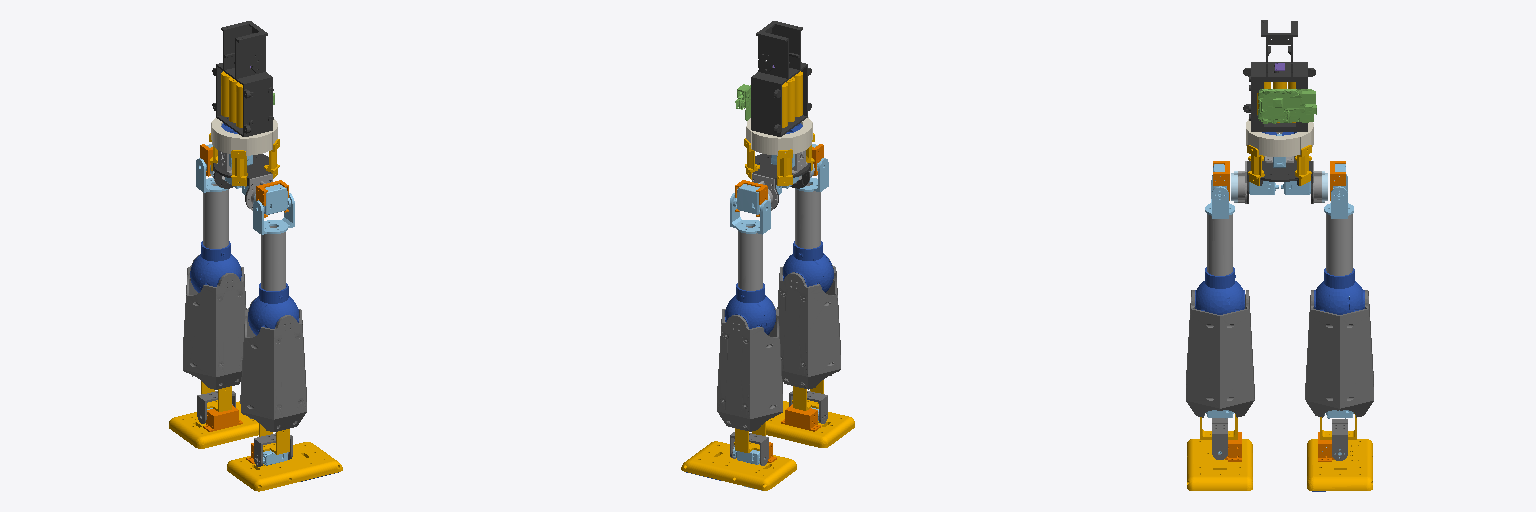
--- Facts derived from the render (not from the file) ---
Views: 3 orthographic renders of the robot side by side, from view 1: azimuth 30°, elevation 25°; view 2: azimuth 150°, elevation 25°; view 3: azimuth 270°, elevation 25°.
Model WildRobotDev with 22 links and 21 joints (11 revolute, 10 fixed), rooted at waist, posed all joints at 0.
Links seen in each view (by area): view 1: lower_leg, lower_leg_2, chassis, waist, upper_leg, upper_leg_2, right_foot, left_foot, right_ankle, left_ankle, right_hip; view 2: lower_leg_2, lower_leg, chassis, waist, upper_leg_2, upper_leg, left_foot, right_foot, left_ankle, right_ankle, left_hip; view 3: lower_leg, lower_leg_2, chassis, waist, upper_leg_2, upper_leg, right_foot, left_foot, right_ankle, left_ankle.
Link boxes in pixels (left/top/right/bottom): lower_leg: left=240, top=298, right=306, bottom=431; lower_leg_2: left=183, top=255, right=246, bottom=389; chassis: left=212, top=21, right=274, bottom=136; waist: left=209, top=118, right=279, bottom=210; upper_leg: left=248, top=193, right=298, bottom=335; upper_leg_2: left=190, top=158, right=241, bottom=292; right_foot: left=227, top=442, right=342, bottom=491; left_foot: left=169, top=401, right=258, bottom=448; right_ankle: left=254, top=423, right=292, bottom=466; left_ankle: left=197, top=381, right=235, bottom=423; right_hip: left=256, top=180, right=290, bottom=217; lower_leg_2: left=717, top=302, right=782, bottom=431; lower_leg: left=777, top=259, right=840, bottom=389; chassis: left=735, top=21, right=811, bottom=136; waist: left=744, top=117, right=814, bottom=210; upper_leg_2: left=725, top=193, right=775, bottom=334; upper_leg: left=783, top=158, right=833, bottom=292; left_foot: left=681, top=441, right=796, bottom=490; right_foot: left=766, top=401, right=854, bottom=447; left_ankle: left=730, top=422, right=768, bottom=465; right_ankle: left=789, top=380, right=827, bottom=423; left_hip: left=733, top=180, right=767, bottom=216; lower_leg: left=1186, top=290, right=1254, bottom=418; lower_leg_2: left=1305, top=290, right=1373, bottom=418; chassis: left=1243, top=20, right=1316, bottom=135; waist: left=1231, top=119, right=1327, bottom=203; upper_leg_2: left=1314, top=174, right=1364, bottom=314; upper_leg: left=1195, top=175, right=1244, bottom=314; right_foot: left=1187, top=432, right=1252, bottom=490; left_foot: left=1307, top=432, right=1372, bottom=491; right_ankle: left=1200, top=414, right=1237, bottom=459; left_ankle: left=1320, top=413, right=1356, bottom=460.
Bounding box of the posed robot: 0.1604 × 0.2851 × 0.7304 m (x, y, z).
Meshes: 32 distinct files referenced, 65 mesh visuals loaded (32 binary STL).

The robot description file, URDF, robot "WildRobotDev":
<?xml version="1.0" ?>
<!-- Generated using onshape-to-robot -->
<!-- Onshape https://cad.onshape.com/documents/ba106cac193c0e2253e1958f/w/3b5db3932a544d9f939ac6a6/e/c90fb7b3175cb93a0ac0750b -->
<robot name="WildRobotDev">
  <!-- Link waist -->
  <link name="waist">
    <inertial>
      <origin xyz="-0.00181517 -3.08835e-05 0.00596571" rpy="0 0 0"/>
      <mass value="0.439621"/>
      <inertia ixx="0.000998265" ixy="-7.22885e-08" ixz="1.38528e-05" iyy="0.000698685" iyz="5.24148e-07" izz="0.00070313"/>
    </inertial>
    <!-- Part htd_45h_1circle -->
    <visual>
      <origin xyz="-0.0596393 -0.00143119 -0.0273687" rpy="1.57113 -4.93038e-32 6.12323e-17"/>
      <geometry>
        <mesh filename="package://assets/htd_45h_1circle.stl"/>
      </geometry>
      <material name="htd_45h_1circle_material">
        <color rgba="0.615686 0.811765 0.929412 1"/>
      </material>
    </visual>
    <!-- Part waist_trunk_support -->
    <visual>
      <origin xyz="0.000128558 -0.000153209 0.12518" rpy="-9.86076e-32 -0 -2.44346"/>
      <geometry>
        <mesh filename="package://assets/waist_trunk_support.stl"/>
      </geometry>
      <material name="waist_trunk_support_material">
        <color rgba="0.980392 0.713725 0.00392157 1"/>
      </material>
    </visual>
    <!-- Part trunk_bottom -->
    <visual>
      <origin xyz="-1.8982e-19 0 0" rpy="0 -0 -1.5708"/>
      <geometry>
        <mesh filename="package://assets/trunk_bottom.stl"/>
      </geometry>
      <material name="trunk_bottom_material">
        <color rgba="0.301961 0.301961 0.301961 1"/>
      </material>
    </visual>
    <!-- Part htd_45h_1circle_2 -->
    <visual>
      <origin xyz="-0.00619509 -0.059645 -0.00396881" rpy="0.000328717 -0 1.5708"/>
      <geometry>
        <mesh filename="package://assets/htd_45h_1circle.stl"/>
      </geometry>
      <material name="htd_45h_1circle_2_material">
        <color rgba="0.615686 0.811765 0.929412 1"/>
      </material>
    </visual>
    <!-- Part trunk_servo_connect -->
    <visual>
      <origin xyz="5.89806e-17 -3.1225e-17 0" rpy="0 -0 -1.5708"/>
      <geometry>
        <mesh filename="package://assets/trunk_servo_connect.stl"/>
      </geometry>
      <material name="trunk_servo_connect_material">
        <color rgba="0.647059 0.647059 0.647059 1"/>
      </material>
    </visual>
    <!-- Part hip_cover -->
    <visual>
      <origin xyz="1.38778e-17 -0.00025 1.47949e-17" rpy="-9.86076e-32 9.86076e-32 1.5708"/>
      <geometry>
        <mesh filename="package://assets/hip_cover.stl"/>
      </geometry>
      <material name="hip_cover_material">
        <color rgba="0.768627 0.886275 0.952941 1"/>
      </material>
    </visual>
    <!-- Part scroll_out -->
    <visual>
      <origin xyz="-1.59595e-16 -1.66533e-16 0.12518" rpy="-1.93746e-16 4.93038e-32 -2.44346"/>
      <geometry>
        <mesh filename="package://assets/scroll_out.stl"/>
      </geometry>
      <material name="scroll_out_material">
        <color rgba="0.901961 0.878431 0.811765 1"/>
      </material>
    </visual>
    <!-- Part waist_trunk_support_2 -->
    <visual>
      <origin xyz="0.000128558 0.000153209 0.12518" rpy="7.39557e-32 9.86076e-32 -0.698132"/>
      <geometry>
        <mesh filename="package://assets/waist_trunk_support.stl"/>
      </geometry>
      <material name="waist_trunk_support_2_material">
        <color rgba="0.980392 0.713725 0.00392157 1"/>
      </material>
    </visual>
    <!-- Part hip_trunk_connect -->
    <visual>
      <origin xyz="1.38778e-17 -0.0001 1.53661e-17" rpy="-4.93038e-32 6.16298e-33 1.5708"/>
      <geometry>
        <mesh filename="package://assets/hip_trunk_connect.stl"/>
      </geometry>
      <material name="hip_trunk_connect_material">
        <color rgba="0.647059 0.647059 0.647059 1"/>
      </material>
    </visual>
    <!-- Part waist_trunk_support_3 -->
    <visual>
      <origin xyz="-0.000128558 -0.000153209 0.12518" rpy="-9.86076e-32 -0 2.44346"/>
      <geometry>
        <mesh filename="package://assets/waist_trunk_support.stl"/>
      </geometry>
      <material name="waist_trunk_support_3_material">
        <color rgba="0.980392 0.713725 0.00392157 1"/>
      </material>
    </visual>
    <!-- Part scroll_inner -->
    <!-- Part pca9548a -->
    <!-- Part waist_trunk_support_4 -->
    <visual>
      <origin xyz="-0.000128558 0.000153209 0.12518" rpy="-2.46519e-32 -1.47911e-31 0.698132"/>
      <geometry>
        <mesh filename="package://assets/waist_trunk_support.stl"/>
      </geometry>
      <material name="waist_trunk_support_4_material">
        <color rgba="0.980392 0.713725 0.00392157 1"/>
      </material>
    </visual>
    <!-- Part hip_cover_2 -->
    <visual>
      <origin xyz="-1.38778e-17 0.00025 1.46954e-17" rpy="9.86076e-32 -1.49452e-31 -1.5708"/>
      <geometry>
        <mesh filename="package://assets/hip_cover.stl"/>
      </geometry>
      <material name="hip_cover_2_material">
        <color rgba="0.768627 0.886275 0.952941 1"/>
      </material>
    </visual>
    <!-- Part htd_45h_1circle_3 -->
    <visual>
      <origin xyz="0.0596393 0.00143119 -0.0273687" rpy="1.57113 4.93038e-32 -3.14159"/>
      <geometry>
        <mesh filename="package://assets/htd_45h_1circle.stl"/>
      </geometry>
      <material name="htd_45h_1circle_3_material">
        <color rgba="0.615686 0.811765 0.929412 1"/>
      </material>
    </visual>
    <!-- Part hip_trunk_connect_2 -->
    <visual>
      <origin xyz="-1.38778e-17 0.0001 1.3452e-17" rpy="4.93038e-32 -3.08149e-32 -1.5708"/>
      <geometry>
        <mesh filename="package://assets/hip_trunk_connect.stl"/>
      </geometry>
      <material name="hip_trunk_connect_2_material">
        <color rgba="0.647059 0.647059 0.647059 1"/>
      </material>
    </visual>
  </link>
  <!-- Frame pelvis_mimic (dummy link + fixed joint) -->
  <link name="pelvis_mimic">
    <origin xyz="0 0 0" rpy="0 -0 0"/>
    <inertial>
      <origin xyz="0 0 0" rpy="0 0 0"/>
      <mass value="1e-9"/>
      <inertia ixx="0" ixy="0" ixz="0" iyy="0" iyz="0" izz="0"/>
    </inertial>
  </link>
  <joint name="pelvis_mimic_frame" type="fixed">
    <origin xyz="0 0 0" rpy="0 -0 0"/>
    <parent link="waist"/>
    <child link="pelvis_mimic"/>
    <axis xyz="0 0 0"/>
  </joint>
  <!-- Link right_hip -->
  <link name="right_hip">
    <inertial>
      <origin xyz="0.00272374 -0.00897832 -0.0331404" rpy="0 0 0"/>
      <mass value="0.0849728"/>
      <inertia ixx="2.00434e-05" ixy="-3.96751e-07" ixz="7.91944e-07" iyy="1.92798e-05" iyz="-1.48675e-06" izz="2.44237e-05"/>
    </inertial>
    <!-- Part htd_45h_1circle_4 -->
    <visual>
      <origin xyz="-0.0254688 -0.0063813 -0.0961393" rpy="-3.14126 -1.5708 0"/>
      <geometry>
        <mesh filename="package://assets/htd_45h_1circle.stl"/>
      </geometry>
      <material name="htd_45h_1circle_4_material">
        <color rgba="0.615686 0.811765 0.929412 1"/>
      </material>
    </visual>
    <!-- Part hip_servo_gear -->
    <!-- Part hip_servo_hook_right -->
    <visual>
      <origin xyz="-0.0001 -0.03359 0.0566" rpy="1.5708 -1.5708 0"/>
      <geometry>
        <mesh filename="package://assets/hip_servo_hook_right.stl"/>
      </geometry>
      <material name="hip_servo_hook_right_material">
        <color rgba="0.972549 0.529412 0.00392157 1"/>
      </material>
    </visual>
    <!-- Part hip_gear -->
  </link>
  <!-- Frame right_hip_mimic (dummy link + fixed joint) -->
  <link name="right_hip_mimic">
    <origin xyz="0 0 0" rpy="0 -0 0"/>
    <inertial>
      <origin xyz="0 0 0" rpy="0 0 0"/>
      <mass value="1e-9"/>
      <inertia ixx="0" ixy="0" ixz="0" iyy="0" iyz="0" izz="0"/>
    </inertial>
  </link>
  <joint name="right_hip_mimic_frame" type="fixed">
    <origin xyz="-0.000628163 -9.99278e-05 -0.0365495" rpy="1.5708 3.84483e-16 0.00698132"/>
    <parent link="right_hip"/>
    <child link="right_hip_mimic"/>
    <axis xyz="0 0 0"/>
  </joint>
  <!-- Link upper_leg -->
  <link name="upper_leg">
    <inertial>
      <origin xyz="-0.00104181 0.159312 0.0267034" rpy="0 0 0"/>
      <mass value="0.236565"/>
      <inertia ixx="0.000987068" ixy="9.86461e-06" ixz="9.63535e-09" iyy="0.000125887" iyz="1.07533e-06" izz="0.000979617"/>
    </inertial>
    <!-- Part up_leg_servo_connect -->
    <visual>
      <origin xyz="-0.095 -2.08167e-17 0.0267" rpy="1.5708 1.21238e-15 9.74318e-17"/>
      <geometry>
        <mesh filename="package://assets/up_leg_servo_connect.stl"/>
      </geometry>
      <material name="up_leg_servo_connect_material">
        <color rgba="0.615686 0.811765 0.929412 1"/>
      </material>
    </visual>
    <!-- Part icm45686 -->
    <visual>
      <origin xyz="-4.02456e-16 0.174352 0.1872" rpy="1.5708 1.5708 0"/>
      <geometry>
        <mesh filename="package://assets/icm45686.stl"/>
      </geometry>
      <material name="icm45686_material">
        <color rgba="0.301961 0.301961 0.301961 1"/>
      </material>
    </visual>
    <!-- Part knee_ball_left -->
    <visual>
      <origin xyz="-0.0948 -0.0004 0.0266985" rpy="1.5708 -8.05249e-06 -2.95914e-09"/>
      <geometry>
        <mesh filename="package://assets/knee_ball_left.stl"/>
      </geometry>
      <material name="knee_ball_left_material">
        <color rgba="0.231373 0.380392 0.705882 1"/>
      </material>
    </visual>
    <!-- Part knee_ball_mid -->
    <visual>
      <origin xyz="-0.095 -0.0002 0.0267" rpy="1.5708 1.21253e-15 9.47228e-16"/>
      <geometry>
        <mesh filename="package://assets/knee_ball_mid.stl"/>
      </geometry>
      <material name="knee_ball_mid_material">
        <color rgba="0.231373 0.380392 0.705882 1"/>
      </material>
    </visual>
    <!-- Part up_leg -->
    <visual>
      <origin xyz="-0.095 1.38778e-16 0.0267" rpy="1.5708 1.89619e-15 -2.53132e-15"/>
      <geometry>
        <mesh filename="package://assets/up_leg.stl"/>
      </geometry>
      <material name="up_leg_material">
        <color rgba="0.647059 0.647059 0.647059 1"/>
      </material>
    </visual>
    <!-- Part htd_45h_1circle_5 -->
    <visual>
      <origin xyz="0.0253613 0.198628 -0.0329432" rpy="3.13686 -1.56996 -3.13536"/>
      <geometry>
        <mesh filename="package://assets/htd_45h_1circle.stl"/>
      </geometry>
      <material name="htd_45h_1circle_5_material">
        <color rgba="0.615686 0.811765 0.929412 1"/>
      </material>
    </visual>
    <!-- Part knee_ball_right -->
    <visual>
      <origin xyz="-0.0952 -0.000399963 0.0268019" rpy="1.57007 -6.54438e-05 2.40494e-08"/>
      <geometry>
        <mesh filename="package://assets/knee_ball_right.stl"/>
      </geometry>
      <material name="knee_ball_right_material">
        <color rgba="0.231373 0.380392 0.705882 1"/>
      </material>
    </visual>
  </link>
  <!-- Frame right_knee_mimic (dummy link + fixed joint) -->
  <link name="right_knee_mimic">
    <origin xyz="0 0 0" rpy="0 -0 0"/>
    <inertial>
      <origin xyz="0 0 0" rpy="0 0 0"/>
      <mass value="1e-9"/>
      <inertia ixx="0" ixy="0" ixz="0" iyy="0" iyz="0" izz="0"/>
    </inertial>
  </link>
  <joint name="right_knee_mimic_frame" type="fixed">
    <origin xyz="0.000338462 0.192501 0.0266257" rpy="1.58284 1.56996 0.00623008"/>
    <parent link="upper_leg"/>
    <child link="right_knee_mimic"/>
    <axis xyz="0 0 0"/>
  </joint>
  <!-- Frame right_knee_imu (dummy link + fixed joint) -->
  <link name="right_knee_imu">
    <origin xyz="0 0 0" rpy="0 -0 0"/>
    <inertial>
      <origin xyz="0 0 0" rpy="0 0 0"/>
      <mass value="1e-9"/>
      <inertia ixx="0" ixy="0" ixz="0" iyy="0" iyz="0" izz="0"/>
    </inertial>
  </link>
  <joint name="right_knee_imu_frame" type="fixed">
    <origin xyz="-3.33067e-16 0.173352 0.0264651" rpy="1.5708 1.5708 0"/>
    <parent link="upper_leg"/>
    <child link="right_knee_imu"/>
    <axis xyz="0 0 0"/>
  </joint>
  <!-- Link lower_leg -->
  <link name="lower_leg">
    <inertial>
      <origin xyz="-0.000521354 -0.101401 0.0270617" rpy="0 0 0"/>
      <mass value="0.380663"/>
      <inertia ixx="0.00177714" ixy="1.88914e-05" ixz="3.0835e-08" iyy="0.000669988" iyz="-3.5834e-05" izz="0.00168908"/>
    </inertial>
    <!-- Part knee_ball_servo_connect_3 -->
    <!-- Part low_leg_right -->
    <visual>
      <origin xyz="-2.5975e-15 0.192752 -0.0677579" rpy="-1.5708 -1.5708 0"/>
      <geometry>
        <mesh filename="package://assets/low_leg_right.stl"/>
      </geometry>
      <material name="low_leg_right_material">
        <color rgba="0.498039 0.498039 0.498039 1"/>
      </material>
    </visual>
    <!-- Part low_leg_left -->
    <visual>
      <origin xyz="-5.69437e-16 0.192752 -0.0677579" rpy="-1.5708 -1.5708 0"/>
      <geometry>
        <mesh filename="package://assets/low_leg_left.stl"/>
      </geometry>
      <material name="low_leg_left_material">
        <color rgba="0.498039 0.498039 0.498039 1"/>
      </material>
    </visual>
    <!-- Part knee_ball_servo_connect_2 -->
    <!-- Part low_leg_servo_connect -->
    <!-- Part knee_ball_servo_connect_1 -->
    <!-- Part htd_45h_1circle_6 -->
    <visual>
      <origin xyz="0.0596393 -0.173769 0.0526109" rpy="-3.14126 -1.91042e-14 -3.14159"/>
      <geometry>
        <mesh filename="package://assets/htd_45h_1circle.stl"/>
      </geometry>
      <material name="htd_45h_1circle_6_material">
        <color rgba="0.615686 0.811765 0.929412 1"/>
      </material>
    </visual>
  </link>
  <!-- Link right_ankle -->
  <link name="right_ankle">
    <inertial>
      <origin xyz="-0.000778386 0.0291765 0.0259275" rpy="0 0 0"/>
      <mass value="0.0230191"/>
      <inertia ixx="1.34186e-05" ixy="1.80568e-07" ixz="1.56329e-08" iyy="1.32703e-05" iyz="-2.24395e-07" izz="1.41853e-05"/>
    </inertial>
    <!-- Part servo_bracket_btm -->
    <visual>
      <origin xyz="-1.00137e-15 0.0722 0.0268" rpy="1.5708 1.5708 0"/>
      <geometry>
        <mesh filename="package://assets/servo_bracket_btm.stl"/>
      </geometry>
      <material name="servo_bracket_btm_material">
        <color rgba="0.498039 0.498039 0.498039 1"/>
      </material>
    </visual>
    <!-- Part servo_bracket_top -->
    <visual>
      <origin xyz="-1.12407e-15 0.0732 0.0268" rpy="1.5708 -1.5708 0"/>
      <geometry>
        <mesh filename="package://assets/servo_bracket_top.stl"/>
      </geometry>
      <material name="servo_bracket_top_material">
        <color rgba="0.980392 0.713725 0.00392157 1"/>
      </material>
    </visual>
  </link>
  <!-- Link right_foot -->
  <link name="right_foot">
    <inertial>
      <origin xyz="-0.0182605 0.00187575 -0.0419443" rpy="0 0 0"/>
      <mass value="0.413618"/>
      <inertia ixx="0.000978456" ixy="-1.71895e-05" ixz="-3.90028e-05" iyy="0.000752203" iyz="-1.62365e-05" izz="0.000319832"/>
    </inertial>
    <!-- Part foot_main_right -->
    <visual>
      <origin xyz="-0.0128256 0.159815 -0.0265243" rpy="1.56997 -0.0011661 1.5708"/>
      <geometry>
        <mesh filename="package://assets/foot_main_right.stl"/>
      </geometry>
      <material name="foot_main_right_material">
        <color rgba="0.980392 0.713725 0.00392157 1"/>
      </material>
    </visual>
    <!-- Part foot_btm_front -->
    <visual>
      <origin xyz="-0.0125255 -0.00118539 -0.0266289" rpy="1.56997 -0.0011661 1.5708"/>
      <geometry>
        <mesh filename="package://assets/foot_btm_front.stl"/>
      </geometry>
      <material name="foot_btm_front_material">
        <color rgba="0.231373 0.380392 0.705882 1"/>
      </material>
    </visual>
    <collision>
      <origin xyz="-0.0125255 -0.00118539 -0.0266289" rpy="1.56997 -0.0011661 1.5708"/>
      <geometry>
        <mesh filename="package://assets/foot_btm_front.stl"/>
      </geometry>
    </collision>
    <!-- Part foot_side_right -->
    <visual>
      <origin xyz="-0.0128256 0.159815 -0.0265243" rpy="1.56997 -0.0011661 1.5708"/>
      <geometry>
        <mesh filename="package://assets/foot_side_right.stl"/>
      </geometry>
      <material name="foot_side_right_material">
        <color rgba="0.980392 0.713725 0.00392157 1"/>
      </material>
    </visual>
    <!-- Part btm_servo_support -->
    <visual>
      <origin xyz="-0.0128254 -0.000185294 -0.0267108" rpy="-1.56997 0.0011661 -1.5708"/>
      <geometry>
        <mesh filename="package://assets/btm_servo_support.stl"/>
      </geometry>
      <material name="btm_servo_support_material">
        <color rgba="0.972549 0.529412 0.00392157 1"/>
      </material>
    </visual>
    <!-- Part foot_btm_back -->
    <visual>
      <origin xyz="-0.0105255 -0.00118539 -0.0266273" rpy="1.56997 -0.0011661 1.5708"/>
      <geometry>
        <mesh filename="package://assets/foot_btm_back.stl"/>
      </geometry>
      <material name="foot_btm_back_material">
        <color rgba="0.768627 0.886275 0.952941 1"/>
      </material>
    </visual>
    <collision>
      <origin xyz="-0.0105255 -0.00118539 -0.0266273" rpy="1.56997 -0.0011661 1.5708"/>
      <geometry>
        <mesh filename="package://assets/foot_btm_back.stl"/>
      </geometry>
    </collision>
    <!-- Part htd_45h_1circle_7 -->
    <visual>
      <origin xyz="-0.0596436 0.0062757 -0.0522108" rpy="0.00149482 -0.00082642 -1.30778e-19"/>
      <geometry>
        <mesh filename="package://assets/htd_45h_1circle.stl"/>
      </geometry>
      <material name="htd_45h_1circle_7_material">
        <color rgba="0.615686 0.811765 0.929412 1"/>
      </material>
    </visual>
    <!-- Part btm_top_back -->
    <!-- Part btm_top_front -->
    <!-- Part btm_servo_support_side -->
  </link>
  <!-- Frame right_foot_mimic (dummy link + fixed joint) -->
  <link name="right_foot_mimic">
    <origin xyz="0 0 0" rpy="0 -0 0"/>
    <inertial>
      <origin xyz="0 0 0" rpy="0 0 0"/>
      <mass value="1e-9"/>
      <inertia ixx="0" ixy="0" ixz="0" iyy="0" iyz="0" izz="0"/>
    </inertial>
  </link>
  <joint name="right_foot_mimic_frame" type="fixed">
    <origin xyz="-0.0294117 0.00930168 -0.0432369" rpy="0.954254 1.56937 0.954254"/>
    <parent link="right_foot"/>
    <child link="right_foot_mimic"/>
    <axis xyz="0 0 0"/>
  </joint>
  <!-- Joint from right_ankle to right_foot -->
  <joint name="right_foot_roll" type="revolute">
    <origin xyz="-0.0268 0.0594 0.0268" rpy="1.5708 2.25084e-15 -1.5708"/>
    <parent link="right_ankle"/>
    <child link="right_foot"/>
    <axis xyz="0 0 1"/>
    <limit effort="10" velocity="10" lower="-0.349066" upper="0.349066"/>
  </joint>
  <!-- Joint from lower_leg to right_ankle -->
  <joint name="right_ankle_pitch" type="revolute">
    <origin xyz="-4.74705e-05 -0.179984 0.000442075" rpy="-0.0011661 -0.000826419 -3.14159"/>
    <parent link="lower_leg"/>
    <child link="right_ankle"/>
    <axis xyz="0 0 1"/>
    <limit effort="10" velocity="10" lower="-0.523599" upper="0.523599"/>
  </joint>
  <!-- Joint from upper_leg to lower_leg -->
  <joint name="right_knee_pitch" type="revolute">
    <origin xyz="-0.02685 0.192352 0.0267" rpy="-0.573294 -1.57079 -2.5683"/>
    <parent link="upper_leg"/>
    <child link="lower_leg"/>
    <axis xyz="0 0 1"/>
    <limit effort="10" velocity="10" lower="0" upper="1.39626"/>
  </joint>
  <!-- Joint from right_hip to upper_leg -->
  <joint name="right_hip_roll" type="revolute">
    <origin xyz="0.0267 -0.000166429 -0.0364525" rpy="3.14159 -1.56997 3.14043"/>
    <parent link="right_hip"/>
    <child link="upper_leg"/>
    <axis xyz="0 0 1"/>
    <limit effort="10" velocity="10" lower="-0.174533" upper="1.5708"/>
  </joint>
  <!-- Joint from waist to right_hip -->
  <joint name="right_hip_pitch" type="revolute">
    <origin xyz="4.74705e-05 -0.0536 -0.0335836" rpy="-1.57196 9.6369e-07 0.000826419"/>
    <parent link="waist"/>
    <child link="right_hip"/>
    <axis xyz="0 0 1"/>
    <limit effort="10" velocity="10" lower="-1.5708" upper="0.0872665"/>
  </joint>
  <!-- Link left_hip -->
  <link name="left_hip">
    <inertial>
      <origin xyz="-0.00291444 -0.00897832 -0.0331054" rpy="0 0 0"/>
      <mass value="0.0849728"/>
      <inertia ixx="2.00234e-05" ixy="3.89652e-07" ixz="-8.26001e-07" iyy="1.92641e-05" iyz="-1.4809e-06" izz="2.44282e-05"/>
    </inertial>
    <!-- Part hip_servo_hook_left -->
    <visual>
      <origin xyz="-0.0001 -0.03359 0.0566" rpy="1.5708 1.5708 0"/>
      <geometry>
        <mesh filename="package://assets/hip_servo_hook_left.stl"/>
      </geometry>
      <material name="hip_servo_hook_left_material">
        <color rgba="0.972549 0.529412 0.00392157 1"/>
      </material>
    </visual>
    <!-- Part htd_45h_1circle_8 -->
    <visual>
      <origin xyz="0.0252688 -0.0063813 0.0231393" rpy="-3.14126 1.5708 0"/>
      <geometry>
        <mesh filename="package://assets/htd_45h_1circle.stl"/>
      </geometry>
      <material name="htd_45h_1circle_8_material">
        <color rgba="0.615686 0.811765 0.929412 1"/>
      </material>
    </visual>
    <!-- Part hip_servo_gear_2 -->
    <!-- Part hip_gear_2 -->
  </link>
  <!-- Frame left_hip_mimic (dummy link + fixed joint) -->
  <link name="left_hip_mimic">
    <origin xyz="0 0 0" rpy="0 -0 0"/>
    <inertial>
      <origin xyz="0 0 0" rpy="0 0 0"/>
      <mass value="1e-9"/>
      <inertia ixx="0" ixy="0" ixz="0" iyy="0" iyz="0" izz="0"/>
    </inertial>
  </link>
  <joint name="left_hip_mimic_frame" type="fixed">
    <origin xyz="0.000428163 -9.99278e-05 -0.0364505" rpy="-1.5708 -5.58754e-18 3.13461"/>
    <parent link="left_hip"/>
    <child link="left_hip_mimic"/>
    <axis xyz="0 0 0"/>
  </joint>
  <!-- Link upper_leg_2 -->
  <link name="upper_leg_2">
    <inertial>
      <origin xyz="-0.00104181 0.159312 0.0267034" rpy="0 0 0"/>
      <mass value="0.236565"/>
      <inertia ixx="0.000987068" ixy="9.86461e-06" ixz="9.63535e-09" iyy="0.000125887" iyz="1.07533e-06" izz="0.000979617"/>
    </inertial>
    <!-- Part up_leg_servo_connect_2 -->
    <visual>
      <origin xyz="-0.095 6.93889e-18 0.0267" rpy="1.5708 -1.68496e-16 -5.13396e-18"/>
      <geometry>
        <mesh filename="package://assets/up_leg_servo_connect.stl"/>
      </geometry>
      <material name="up_leg_servo_connect_2_material">
        <color rgba="0.615686 0.811765 0.929412 1"/>
      </material>
    </visual>
    <!-- Part icm45686_2 -->
    <visual>
      <origin xyz="5.55112e-17 0.174352 0.1872" rpy="1.5708 1.5708 0"/>
      <geometry>
        <mesh filename="package://assets/icm45686.stl"/>
      </geometry>
      <material name="icm45686_2_material">
        <color rgba="0.301961 0.301961 0.301961 1"/>
      </material>
    </visual>
    <!-- Part knee_ball_left_2 -->
    <visual>
      <origin xyz="-0.0948 -0.0004 0.0266985" rpy="1.5708 -8.05249e-06 -2.95914e-09"/>
      <geometry>
        <mesh filename="package://assets/knee_ball_left.stl"/>
      </geometry>
      <material name="knee_ball_left_2_material">
        <color rgba="0.231373 0.380392 0.705882 1"/>
      </material>
    </visual>
    <!-- Part knee_ball_mid_2 -->
    <visual>
      <origin xyz="-0.095 -0.0002 0.0267" rpy="1.5708 -1.4842e-16 5.03885e-19"/>
      <geometry>
        <mesh filename="package://assets/knee_ball_mid.stl"/>
      </geometry>
      <material name="knee_ball_mid_2_material">
        <color rgba="0.231373 0.380392 0.705882 1"/>
      </material>
    </visual>
    <!-- Part up_leg_2 -->
    <visual>
      <origin xyz="-0.095 1.38778e-17 0.0267" rpy="1.5708 -1.76675e-16 -1.46635e-19"/>
      <geometry>
        <mesh filename="package://assets/up_leg.stl"/>
      </geometry>
      <material name="up_leg_2_material">
        <color rgba="0.647059 0.647059 0.647059 1"/>
      </material>
    </visual>
    <!-- Part htd_45h_1circle_9 -->
    <visual>
      <origin xyz="0.0253613 0.198628 -0.0329432" rpy="3.13686 -1.56996 -3.13536"/>
      <geometry>
        <mesh filename="package://assets/htd_45h_1circle.stl"/>
      </geometry>
      <material name="htd_45h_1circle_9_material">
        <color rgba="0.615686 0.811765 0.929412 1"/>
      </material>
    </visual>
    <!-- Part knee_ball_right_2 -->
    <visual>
      <origin xyz="-0.0952 -0.000399963 0.0268019" rpy="1.57007 -6.54438e-05 2.40494e-08"/>
      <geometry>
        <mesh filename="package://assets/knee_ball_right.stl"/>
      </geometry>
      <material name="knee_ball_right_2_material">
        <color rgba="0.231373 0.380392 0.705882 1"/>
      </material>
    </visual>
  </link>
  <!-- Frame left_knee_mimic (dummy link + fixed joint) -->
  <link name="left_knee_mimic">
    <origin xyz="0 0 0" rpy="0 -0 0"/>
    <inertial>
      <origin xyz="0 0 0" rpy="0 0 0"/>
      <mass value="1e-9"/>
      <inertia ixx="0" ixy="0" ixz="0" iyy="0" iyz="0" izz="0"/>
    </inertial>
  </link>
  <joint name="left_knee_mimic_frame" type="fixed">
    <origin xyz="0.000338462 0.192501 0.0266257" rpy="1.58284 1.56996 0.00623008"/>
    <parent link="upper_leg_2"/>
    <child link="left_knee_mimic"/>
    <axis xyz="0 0 0"/>
  </joint>
  <!-- Frame left_knee_imu (dummy link + fixed joint) -->
  <link name="left_knee_imu">
    <origin xyz="0 0 0" rpy="0 -0 0"/>
    <inertial>
      <origin xyz="0 0 0" rpy="0 0 0"/>
      <mass value="1e-9"/>
      <inertia ixx="0" ixy="0" ixz="0" iyy="0" iyz="0" izz="0"/>
    </inertial>
  </link>
  <joint name="left_knee_imu_frame" type="fixed">
    <origin xyz="1.11022e-16 0.173352 0.0264651" rpy="1.5708 1.5708 0"/>
    <parent link="upper_leg_2"/>
    <child link="left_knee_imu"/>
    <axis xyz="0 0 0"/>
  </joint>
  <!-- Link lower_leg_2 -->
  <link name="lower_leg_2">
    <inertial>
      <origin xyz="-0.000521354 -0.101401 0.0270617" rpy="0 0 0"/>
      <mass value="0.380663"/>
      <inertia ixx="0.00177714" ixy="1.88914e-05" ixz="3.0835e-08" iyy="0.000669988" iyz="-3.5834e-05" izz="0.00168908"/>
    </inertial>
    <!-- Part knee_ball_servo_connect_3_2 -->
    <!-- Part low_leg_right_2 -->
    <visual>
      <origin xyz="-2.21559e-15 0.192752 -0.0677579" rpy="-1.5708 -1.5708 0"/>
      <geometry>
        <mesh filename="package://assets/low_leg_right.stl"/>
      </geometry>
      <material name="low_leg_right_2_material">
        <color rgba="0.498039 0.498039 0.498039 1"/>
      </material>
    </visual>
    <!-- Part low_leg_left_2 -->
    <visual>
      <origin xyz="-2.87964e-16 0.192752 -0.0677579" rpy="-1.5708 -1.5708 0"/>
      <geometry>
        <mesh filename="package://assets/low_leg_left.stl"/>
      </geometry>
      <material name="low_leg_left_2_material">
        <color rgba="0.498039 0.498039 0.498039 1"/>
      </material>
    </visual>
    <!-- Part knee_ball_servo_connect_2_2 -->
    <!-- Part low_leg_servo_connect_2 -->
    <!-- Part knee_ball_servo_connect_1_2 -->
    <!-- Part htd_45h_1circle_10 -->
    <visual>
      <origin xyz="0.0596393 -0.173769 0.0526109" rpy="-3.14126 -2.05983e-14 -3.14159"/>
      <geometry>
        <mesh filename="package://assets/htd_45h_1circle.stl"/>
      </geometry>
      <material name="htd_45h_1circle_10_material">
        <color rgba="0.615686 0.811765 0.929412 1"/>
      </material>
    </visual>
  </link>
  <!-- Link left_ankle -->
  <link name="left_ankle">
    <inertial>
      <origin xyz="0.000778386 0.0291765 0.0259275" rpy="0 0 0"/>
      <mass value="0.0230191"/>
      <inertia ixx="1.34186e-05" ixy="-1.80568e-07" ixz="-1.56329e-08" iyy="1.32703e-05" iyz="-2.24395e-07" izz="1.41853e-05"/>
    </inertial>
    <!-- Part servo_bracket_btm_2 -->
    <visual>
      <origin xyz="-1.13299e-17 0.0722 0.0268" rpy="1.5708 -1.5708 0"/>
      <geometry>
        <mesh filename="package://assets/servo_bracket_btm.stl"/>
      </geometry>
      <material name="servo_bracket_btm_2_material">
        <color rgba="0.498039 0.498039 0.498039 1"/>
      </material>
    </visual>
    <!-- Part servo_bracket_top_2 -->
    <visual>
      <origin xyz="-4.77049e-18 0.0732 0.0268" rpy="1.5708 -1.5708 0"/>
      <geometry>
        <mesh filename="package://assets/servo_bracket_top.stl"/>
      </geometry>
      <material name="servo_bracket_top_2_material">
        <color rgba="0.980392 0.713725 0.00392157 1"/>
      </material>
    </visual>
  </link>
  <!-- Link left_foot -->
  <link name="left_foot">
    <inertial>
      <origin xyz="-0.0183724 0.00183883 -0.0102858" rpy="0 0 0"/>
      <mass value="0.413618"/>
      <inertia ixx="0.00096407" ixy="-1.74031e-05" ixz="2.95872e-05" iyy="0.00073874" iyz="1.47775e-05" izz="0.0003209"/>
    </inertial>
    <!-- Part btm_servo_support_2 -->
    <visual>
      <origin xyz="-0.0128254 -0.000185294 -0.0267108" rpy="-1.56997 0.0011661 -1.5708"/>
      <geometry>
        <mesh filename="package://assets/btm_servo_support.stl"/>
      </geometry>
      <material name="btm_servo_support_2_material">
        <color rgba="0.972549 0.529412 0.00392157 1"/>
      </material>
    </visual>
    <!-- Part btm_top_front_2 -->
    <!-- Part htd_45h_1circle_11 -->
    <visual>
      <origin xyz="-0.0596436 0.0062757 -0.0522108" rpy="0.00149482 -0.00082642 -6.89127e-22"/>
      <geometry>
        <mesh filename="package://assets/htd_45h_1circle.stl"/>
      </geometry>
      <material name="htd_45h_1circle_11_material">
        <color rgba="0.615686 0.811765 0.929412 1"/>
      </material>
    </visual>
    <!-- Part foot_btm_back_2 -->
    <visual>
      <origin xyz="-0.0125253 -0.0011852 -0.0267946" rpy="-1.56997 0.0011661 -1.5708"/>
      <geometry>
        <mesh filename="package://assets/foot_btm_back.stl"/>
      </geometry>
      <material name="foot_btm_back_2_material">
        <color rgba="0.768627 0.886275 0.952941 1"/>
      </material>
    </visual>
    <collision>
      <origin xyz="-0.0125253 -0.0011852 -0.0267946" rpy="-1.56997 0.0011661 -1.5708"/>
      <geometry>
        <mesh filename="package://assets/foot_btm_back.stl"/>
      </geometry>
    </collision>
    <!-- Part foot_side -->
    <visual>
      <origin xyz="-0.0128254 -0.000185294 -0.0267108" rpy="-1.56997 0.0011661 -1.5708"/>
      <geometry>
        <mesh filename="package://assets/foot_side.stl"/>
      </geometry>
      <material name="foot_side_material">
        <color rgba="0.980392 0.713725 0.00392157 1"/>
      </material>
    </visual>
    <!-- Part btm_servo_support_side_2 -->
    <!-- Part foot_main -->
    <visual>
      <origin xyz="-0.0128254 -0.000185294 -0.0267108" rpy="-1.56997 0.0011661 -1.5708"/>
      <geometry>
        <mesh filename="package://assets/foot_main.stl"/>
      </geometry>
      <material name="foot_main_material">
        <color rgba="0.980392 0.713725 0.00392157 1"/>
      </material>
    </visual>
    <!-- Part foot_btm_front_2 -->
    <visual>
      <origin xyz="-0.0125255 -0.00118539 -0.0266289" rpy="-1.56997 0.0011661 -1.5708"/>
      <geometry>
        <mesh filename="package://assets/foot_btm_front.stl"/>
      </geometry>
      <material name="foot_btm_front_2_material">
        <color rgba="0.231373 0.380392 0.705882 1"/>
      </material>
    </visual>
    <collision>
      <origin xyz="-0.0125255 -0.00118539 -0.0266289" rpy="-1.56997 0.0011661 -1.5708"/>
      <geometry>
        <mesh filename="package://assets/foot_btm_front.stl"/>
      </geometry>
    </collision>
    <!-- Part btm_top_back_2 -->
  </link>
  <!-- Frame left_foot_mimic (dummy link + fixed joint) -->
  <link name="left_foot_mimic">
    <origin xyz="0 0 0" rpy="0 -0 0"/>
    <inertial>
      <origin xyz="0 0 0" rpy="0 0 0"/>
      <mass value="1e-9"/>
      <inertia ixx="0" ixy="0" ixz="0" iyy="0" iyz="0" izz="0"/>
    </inertial>
  </link>
  <joint name="left_foot_mimic_frame" type="fixed">
    <origin xyz="-0.0294391 0.00926314 -0.0101901" rpy="-0.954254 -1.56937 -2.18734"/>
    <parent link="left_foot"/>
    <child link="left_foot_mimic"/>
    <axis xyz="0 0 0"/>
  </joint>
  <!-- Joint from left_ankle to left_foot -->
  <joint name="left_foot_roll" type="revolute">
    <origin xyz="0.0268 0.0594 0.0268" rpy="-1.5708 6.08081e-17 -1.5708"/>
    <parent link="left_ankle"/>
    <child link="left_foot"/>
    <axis xyz="0 0 1"/>
    <limit effort="10" velocity="10" lower="-0.349066" upper="0.349066"/>
  </joint>
  <!-- Joint from lower_leg_2 to left_ankle -->
  <joint name="left_ankle_pitch" type="revolute">
    <origin xyz="-4.74705e-05 -0.179984 0.000442075" rpy="-0.0011661 -0.000826419 -3.14159"/>
    <parent link="lower_leg_2"/>
    <child link="left_ankle"/>
    <axis xyz="0 0 1"/>
    <limit effort="10" velocity="10" lower="-0.523599" upper="0.523599"/>
  </joint>
  <!-- Joint from upper_leg_2 to lower_leg_2 -->
  <joint name="left_knee_pitch" type="revolute">
    <origin xyz="-0.02685 0.192352 0.0267" rpy="-0.573294 -1.57079 -2.5683"/>
    <parent link="upper_leg_2"/>
    <child link="lower_leg_2"/>
    <axis xyz="0 0 1"/>
    <limit effort="10" velocity="10" lower="0" upper="1.39626"/>
  </joint>
  <!-- Joint from left_hip to upper_leg_2 -->
  <joint name="left_hip_roll" type="revolute">
    <origin xyz="-0.0269 -0.000166429 -0.0365475" rpy="5.03028e-13 1.56997 0.0011661"/>
    <parent link="left_hip"/>
    <child link="upper_leg_2"/>
    <axis xyz="0 0 1"/>
    <limit effort="10" velocity="10" lower="-1.5708" upper="0.174533"/>
  </joint>
  <!-- Joint from waist to left_hip -->
  <joint name="left_hip_pitch" type="revolute">
    <origin xyz="-4.74705e-05 0.0536 -0.0335836" rpy="-1.57196 9.6369e-07 -3.14077"/>
    <parent link="waist"/>
    <child link="left_hip"/>
    <axis xyz="0 0 1"/>
    <limit effort="10" velocity="10" lower="-0.0872665" upper="1.5708"/>
  </joint>
  <!-- Link chassis -->
  <link name="chassis">
    <inertial>
      <origin xyz="0.00235226 0.00416672 -0.0682563" rpy="0 0 0"/>
      <mass value="0.841214"/>
      <inertia ixx="0.00126289" ixy="-0.000107674" ixz="2.45804e-05" iyy="0.00149567" iyz="3.30802e-05" izz="0.000913668"/>
    </inertial>
    <!-- Part cell -->
    <visual>
      <origin xyz="0.0233086 -0.211191 -0.0331" rpy="1.5708 1.42753e-16 -5.8174e-14"/>
      <geometry>
        <mesh filename="package://assets/cell.stl"/>
      </geometry>
      <material name="cell_material">
        <color rgba="0.980392 0.713725 0.00392157 1"/>
      </material>
    </visual>
    <!-- Part battery_hook -->
    <!-- Part rp_assemble -->
    <visual>
      <origin xyz="0.00985858 0.0311486 -0.068" rpy="2.60521e-17 1.90783e-16 -5.13738e-14"/>
      <geometry>
        <mesh filename="package://assets/rp_assemble.stl"/>
      </geometry>
      <material name="rp_assemble_material">
        <color rgba="0.513725 0.737255 0.407843 1"/>
      </material>
    </visual>
    <!-- Part batterybox -->
    <visual>
      <origin xyz="-0.000141421 0.0233586 -0.068" rpy="3.14159 -1.90891e-16 3.14159"/>
      <geometry>
        <mesh filename="package://assets/batterybox.stl"/>
      </geometry>
      <material name="batterybox_material">
        <color rgba="0.301961 0.301961 0.301961 1"/>
      </material>
    </visual>
    <!-- Part bno085 -->
    <visual>
      <origin xyz="0.0951086 -0.000141421 -0.119" rpy="-4.53509e-17 1.18323e-16 3.14159"/>
      <geometry>
        <mesh filename="package://assets/bno085.stl"/>
      </geometry>
      <material name="bno085_material">
        <color rgba="0.513725 0.415686 0.733333 1"/>
      </material>
    </visual>
    <!-- Part battery_hook_2 -->
    <!-- Part cell_2 -->
    <visual>
      <origin xyz="-0.000141421 -0.234991 -0.0331" rpy="1.5708 1.42753e-16 -5.8174e-14"/>
      <geometry>
        <mesh filename="package://assets/cell.stl"/>
      </geometry>
      <material name="cell_2_material">
        <color rgba="0.980392 0.713725 0.00392157 1"/>
      </material>
    </visual>
    <!-- Part pca9548a_2 -->
    <!-- Part cell_3 -->
    <visual>
      <origin xyz="-0.0235914 -0.234991 -0.0331" rpy="1.5708 1.42753e-16 -5.8174e-14"/>
      <geometry>
        <mesh filename="package://assets/cell.stl"/>
      </geometry>
      <material name="cell_3_material">
        <color rgba="0.980392 0.713725 0.00392157 1"/>
      </material>
    </visual>
    <!-- Part hiwonderboard -->
    <!-- Part waist_platform -->
    <visual>
      <origin xyz="-0.000141421 -0.000141421 -0.0763796" rpy="3.14159 -4.15657e-18 -5.13879e-14"/>
      <geometry>
        <mesh filename="package://assets/waist_platform.stl"/>
      </geometry>
      <material name="waist_platform_material">
        <color rgba="0.231373 0.380392 0.705882 1"/>
      </material>
    </visual>
    <!-- Part waist_platform_2 -->
    <visual>
      <origin xyz="-0.000141421 -0.000141421 -0.0763796" rpy="3.14159 1.23996e-16 -5.13599e-14"/>
      <geometry>
        <mesh filename="package://assets/waist_platform_2.stl"/>
      </geometry>
      <material name="waist_platform_2_material">
        <color rgba="0.231373 0.380392 0.705882 1"/>
      </material>
    </visual>
    <!-- Part cell_4 -->
    <visual>
      <origin xyz="0.0233086 -0.234991 -0.0331" rpy="1.5708 1.42753e-16 -5.8174e-14"/>
      <geometry>
        <mesh filename="package://assets/cell.stl"/>
      </geometry>
      <material name="cell_4_material">
        <color rgba="0.980392 0.713725 0.00392157 1"/>
      </material>
    </visual>
    <!-- Part cell_5 -->
    <visual>
      <origin xyz="-0.0235914 -0.211191 -0.0331" rpy="1.5708 1.42753e-16 -5.8174e-14"/>
      <geometry>
        <mesh filename="package://assets/cell.stl"/>
      </geometry>
      <material name="cell_5_material">
        <color rgba="0.980392 0.713725 0.00392157 1"/>
      </material>
    </visual>
    <!-- Part cell_6 -->
    <visual>
      <origin xyz="-0.000141421 -0.211191 -0.0331" rpy="1.5708 1.42753e-16 -5.8174e-14"/>
      <geometry>
        <mesh filename="package://assets/cell.stl"/>
      </geometry>
      <material name="cell_6_material">
        <color rgba="0.980392 0.713725 0.00392157 1"/>
      </material>
    </visual>
    <!-- Part battery_servo_connect -->
  </link>
  <!-- Frame chest_imu (dummy link + fixed joint) -->
  <link name="chest_imu">
    <origin xyz="0 0 0" rpy="0 -0 0"/>
    <inertial>
      <origin xyz="0 0 0" rpy="0 0 0"/>
      <mass value="1e-9"/>
      <inertia ixx="0" ixy="0" ixz="0" iyy="0" iyz="0" izz="0"/>
    </inertial>
  </link>
  <joint name="chest_imu_frame" type="fixed">
    <origin xyz="0.000119839 -0.000141421 -0.119" rpy="3.14159 -4.53509e-17 1.5708"/>
    <parent link="chassis"/>
    <child link="chest_imu"/>
    <axis xyz="0 0 0"/>
  </joint>
  <!-- Joint from waist to chassis -->
  <joint name="waist_yaw" type="revolute">
    <origin xyz="1.97751e-05 4.17458e-05 0.0482" rpy="3.14043 0.000826419 1.5708"/>
    <parent link="waist"/>
    <child link="chassis"/>
    <axis xyz="0 0 1"/>
    <limit effort="10" velocity="10" lower="-0.523599" upper="0.523599"/>
  </joint>
  <!-- Additional sensors.xml -->
  <sensor>
    <!-- Chest IMU (BNO085) - 9-DOF sensor with realistic noise -->
    <!-- Datasheet specs: Gyro ~0.014°/s/√Hz, Accel ~150μg/√Hz, Mag ~0.3μT -->
    <gyro site="chest_imu" name="chest_imu_gyro" noise="0.0002" cutoff="100"/>
    <accelerometer site="chest_imu" name="chest_imu_accel" noise="0.0015" cutoff="100"/>
    <magnetometer site="chest_imu" name="chest_imu_mag" noise="0.3"/>
    <framequat objtype="site" objname="chest_imu" name="chest_imu_quat"/>
    <!-- Left Knee IMU (ICM45686) - 6-DOF sensor with realistic noise -->
    <!-- Datasheet specs: Gyro ~0.003°/s/√Hz, Accel ~80μg/√Hz -->
    <gyro site="left_knee_imu" name="left_knee_imu_gyro" noise="0.00005" cutoff="200"/>
    <accelerometer site="left_knee_imu" name="left_knee_imu_accel" noise="0.0008" cutoff="200"/>
    <!-- Right Knee IMU (ICM45686) - 6-DOF sensor with realistic noise -->
    <!-- Datasheet specs: Gyro ~0.003°/s/√Hz, Accel ~80μg/√Hz -->
    <gyro site="right_knee_imu" name="right_knee_imu_gyro" noise="0.00005" cutoff="200"/>
    <accelerometer site="right_knee_imu" name="right_knee_imu_accel" noise="0.0008" cutoff="200"/>
    <!-- Pelvis (trunk/waist) sensors -->
    <gyro site="pelvis_mimic" name="pelvis_gyro"/>
    <accelerometer site="pelvis_mimic" name="pelvis_accel"/>
    <velocimeter site="pelvis_mimic" name="pelvis_local_linvel"/>
    <framequat objtype="site" objname="pelvis_mimic" name="pelvis_quat"/>
    <framezaxis objtype="site" objname="pelvis_mimic" name="pelvis_upvector"/>
    <framexaxis objtype="site" objname="pelvis_mimic" name="pelvis_forwardvector"/>
    <framelinvel objtype="site" objname="pelvis_mimic" name="pelvis_global_linvel"/>
    <frameangvel objtype="site" objname="pelvis_mimic" name="pelvis_global_angvel"/>
    <!-- Right leg sensors -->
    <gyro site="right_hip_mimic" name="right_hip_gyro"/>
    <accelerometer site="right_hip_mimic" name="right_hip_accel"/>
    <framequat objtype="site" objname="right_hip_mimic" name="right_hip_quat"/>
    <frameangvel objtype="site" objname="right_hip_mimic" name="right_hip_angvel"/>
    <gyro site="right_knee_mimic" name="right_knee_gyro"/>
    <accelerometer site="right_knee_mimic" name="right_knee_accel"/>
    <framequat objtype="site" objname="right_knee_mimic" name="right_knee_quat"/>
    <framelinvel objtype="site" objname="right_knee_mimic" name="right_knee_linvel"/>
    <gyro site="right_foot_mimic" name="right_foot_gyro"/>
    <accelerometer site="right_foot_mimic" name="right_foot_accel"/>
    <framequat objtype="site" objname="right_foot_mimic" name="right_foot_quat"/>
    <framelinvel objtype="site" objname="right_foot_mimic" name="right_foot_linvel"/>
    <framezaxis objtype="site" objname="right_foot_mimic" name="right_foot_upvector"/>
    <!-- Left leg sensors -->
    <gyro site="left_hip_mimic" name="left_hip_gyro"/>
    <accelerometer site="left_hip_mimic" name="left_hip_accel"/>
    <framequat objtype="site" objname="left_hip_mimic" name="left_hip_quat"/>
    <frameangvel objtype="site" objname="left_hip_mimic" name="left_hip_angvel"/>
    <gyro site="left_knee_mimic" name="left_knee_gyro"/>
    <accelerometer site="left_knee_mimic" name="left_knee_accel"/>
    <framequat objtype="site" objname="left_knee_mimic" name="left_knee_quat"/>
    <framelinvel objtype="site" objname="left_knee_mimic" name="left_knee_linvel"/>
    <gyro site="left_foot_mimic" name="left_foot_gyro"/>
    <accelerometer site="left_foot_mimic" name="left_foot_accel"/>
    <framequat objtype="site" objname="left_foot_mimic" name="left_foot_quat"/>
    <framelinvel objtype="site" objname="left_foot_mimic" name="left_foot_linvel"/>
    <framezaxis objtype="site" objname="left_foot_mimic" name="left_foot_upvector"/>
  </sensor>
  <!-- Additional joints_properties.xml -->
  <default>
    <default class="htd45hServo">
      <geom contype="0" conaffinity="0"/>
      <joint damping="0.08516" frictionloss="0.022275" armature="0.024992"/>
      <position kp="21.1" kv="0.5" forcerange="-4.0 4.0"/>
    </default>
    <default class="backlash">
      <!-- +/- 0.5° of backlash -->
      <joint damping="0.01" frictionloss="0" armature="0.01" limited="true" range="-0.008726646259971648 0.008726646259971648"/>
    </default>
  </default>
</robot>
